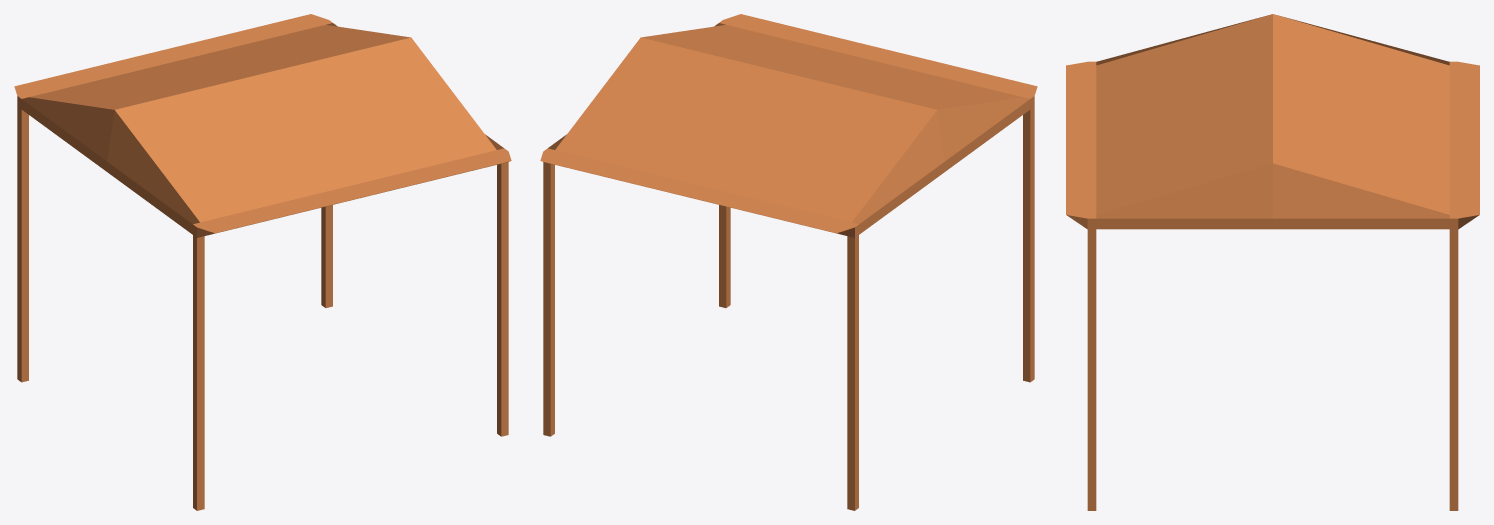
Rendered from Shelter.fbx.
3 views of the same model, side by side, from view 1: azimuth 30°, elevation 25°; view 2: azimuth 150°, elevation 25°; view 3: azimuth 270°, elevation 25° (orthographic). The views are drawn at different scales.
Visible parts, largest first — view 1: Shelter; view 2: Shelter; view 3: Shelter.
Boxes of the visible parts, x1=… form: Shelter: x1=14, y1=14, x2=511, y2=510; Shelter: x1=540, y1=14, x2=1037, y2=510; Shelter: x1=1066, y1=14, x2=1479, y2=510.
Bounding box in the file's own units: 819 × 838 × 914.
